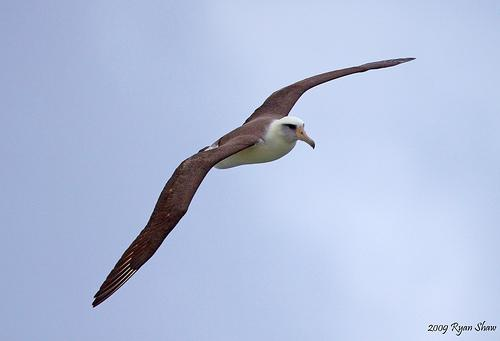002.Laysan_Albatross: (91, 58, 419, 310)
